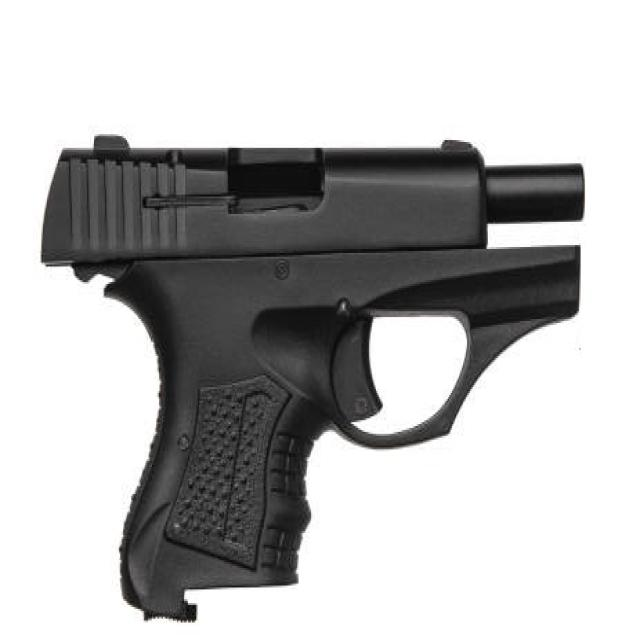pistol: (29, 127, 595, 633)
